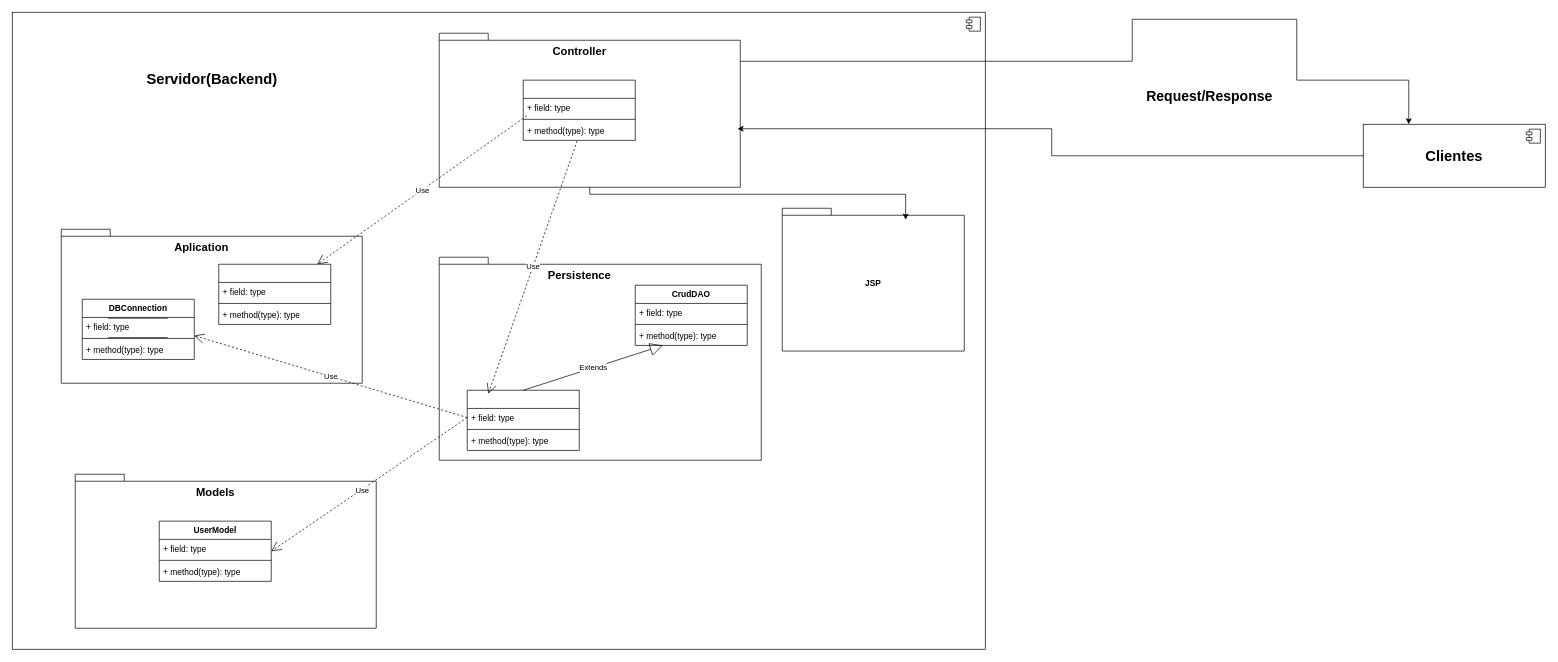
This 1558x662 diagram has some shape labels left out. The box of each missing label's shape, as (x1, y1, x2, y2) in pixels:
Encript: (218, 264, 331, 324)
UserDAO: (467, 390, 579, 450)
UserServlet: (523, 79, 635, 140)
